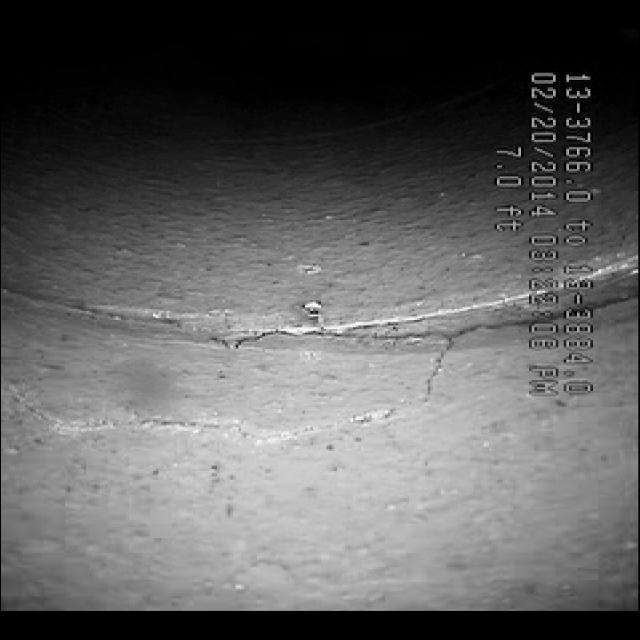Crack: (76, 346, 476, 478)
